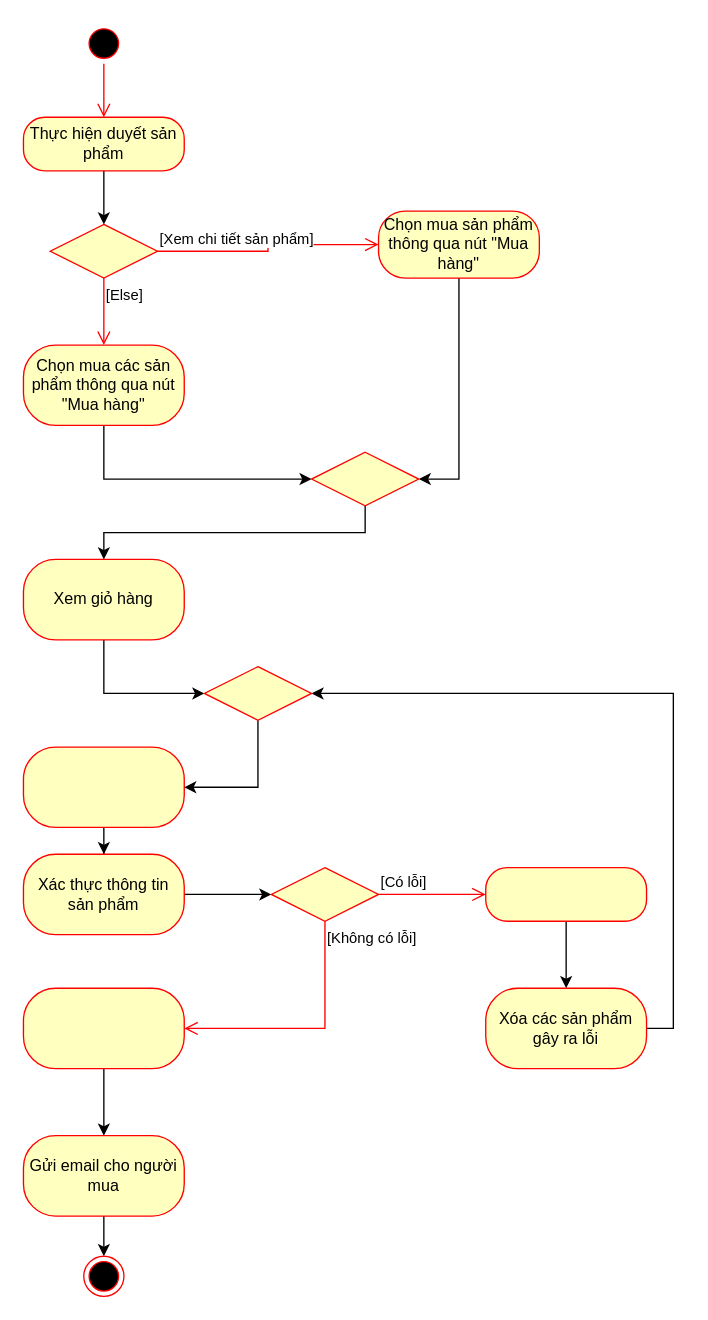
Image size: 708x1320. Some labels were removed from this diagram. Here are the shapes that lost their labels. From the top down, the centre of each, then its label:
At pixel 103 786: "Chọn thanh toán giỏ hàng".
At pixel 565 893: "Hiển thị lỗi tương ứng".
At pixel 103 1028: "Xử lý thanh toán".
